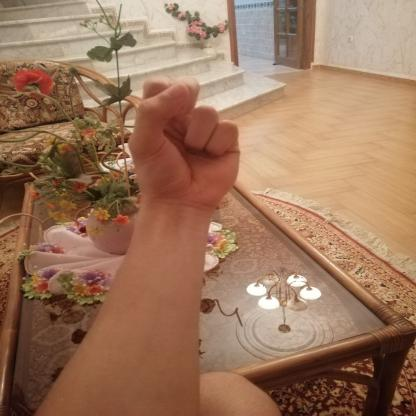QAAF: (108, 67, 253, 216)
